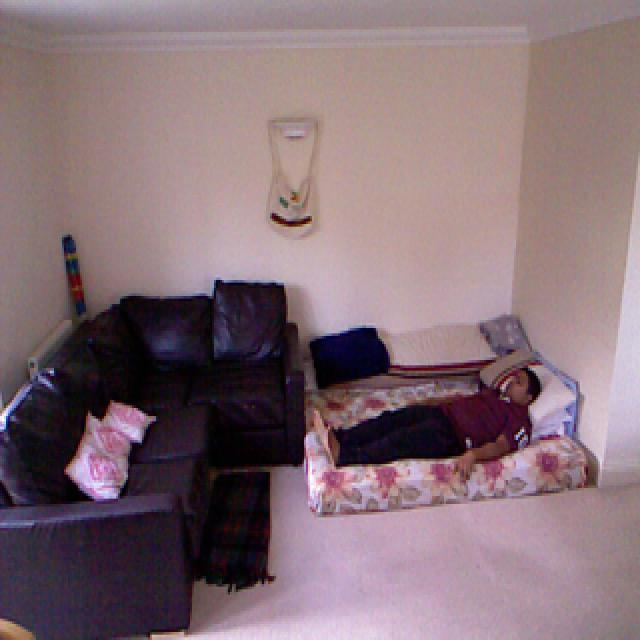Fall: (306, 339, 570, 480)
